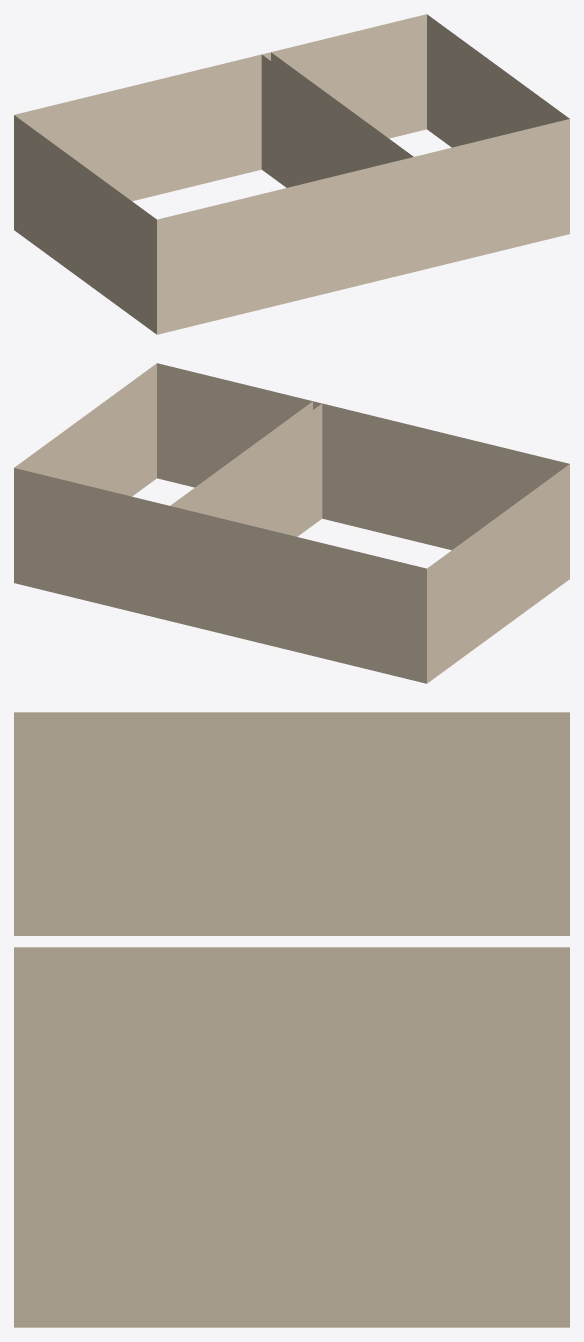
File: Walls.fbx
3 views of the same model, one above another, from view 1: azimuth 30°, elevation 25°; view 2: azimuth 150°, elevation 25°; view 3: azimuth 270°, elevation 25° (orthographic). The views are drawn at different scales.
Visible parts, largest first — view 1: Plane.003, Plane.004, Plane.005, Plane.001, Plane, Plane.002; view 2: Plane.004, Plane.003, Plane.005, Plane.001, Plane, Plane.002; view 3: Plane, Plane.005, Plane.002, Plane.001.
Boxes of the visible parts, left/top/right/bottom form: Plane.003: left=157, top=119, right=569, bottom=334; Plane.004: left=14, top=14, right=426, bottom=201; Plane.005: left=14, top=115, right=156, bottom=334; Plane.001: left=261, top=54, right=404, bottom=187; Plane: left=427, top=14, right=569, bottom=147; Plane.002: left=271, top=52, right=413, bottom=158; Plane.004: left=14, top=468, right=426, bottom=683; Plane.003: left=157, top=363, right=569, bottom=550; Plane.005: left=427, top=464, right=569, bottom=683; Plane.001: left=179, top=403, right=322, bottom=536; Plane: left=14, top=363, right=156, bottom=496; Plane.002: left=170, top=401, right=312, bottom=507; Plane: left=14, top=1104, right=569, bottom=1327; Plane.005: left=14, top=712, right=569, bottom=935; Plane.002: left=14, top=956, right=569, bottom=1103; Plane.001: left=14, top=947, right=569, bottom=955.
Bounding box in the file's own units: 2250 × 600 × 1350.
